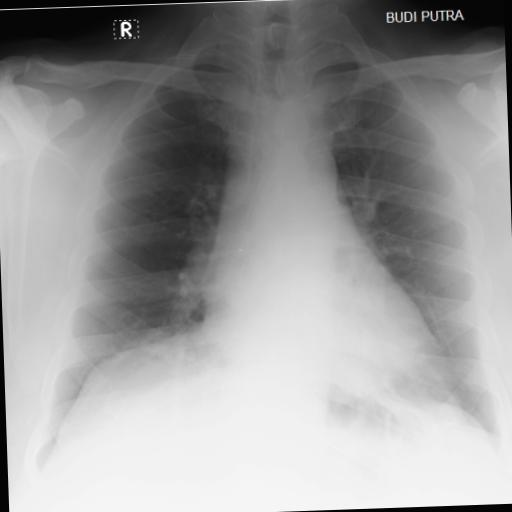kardiomegali: (18, 43, 512, 465)
